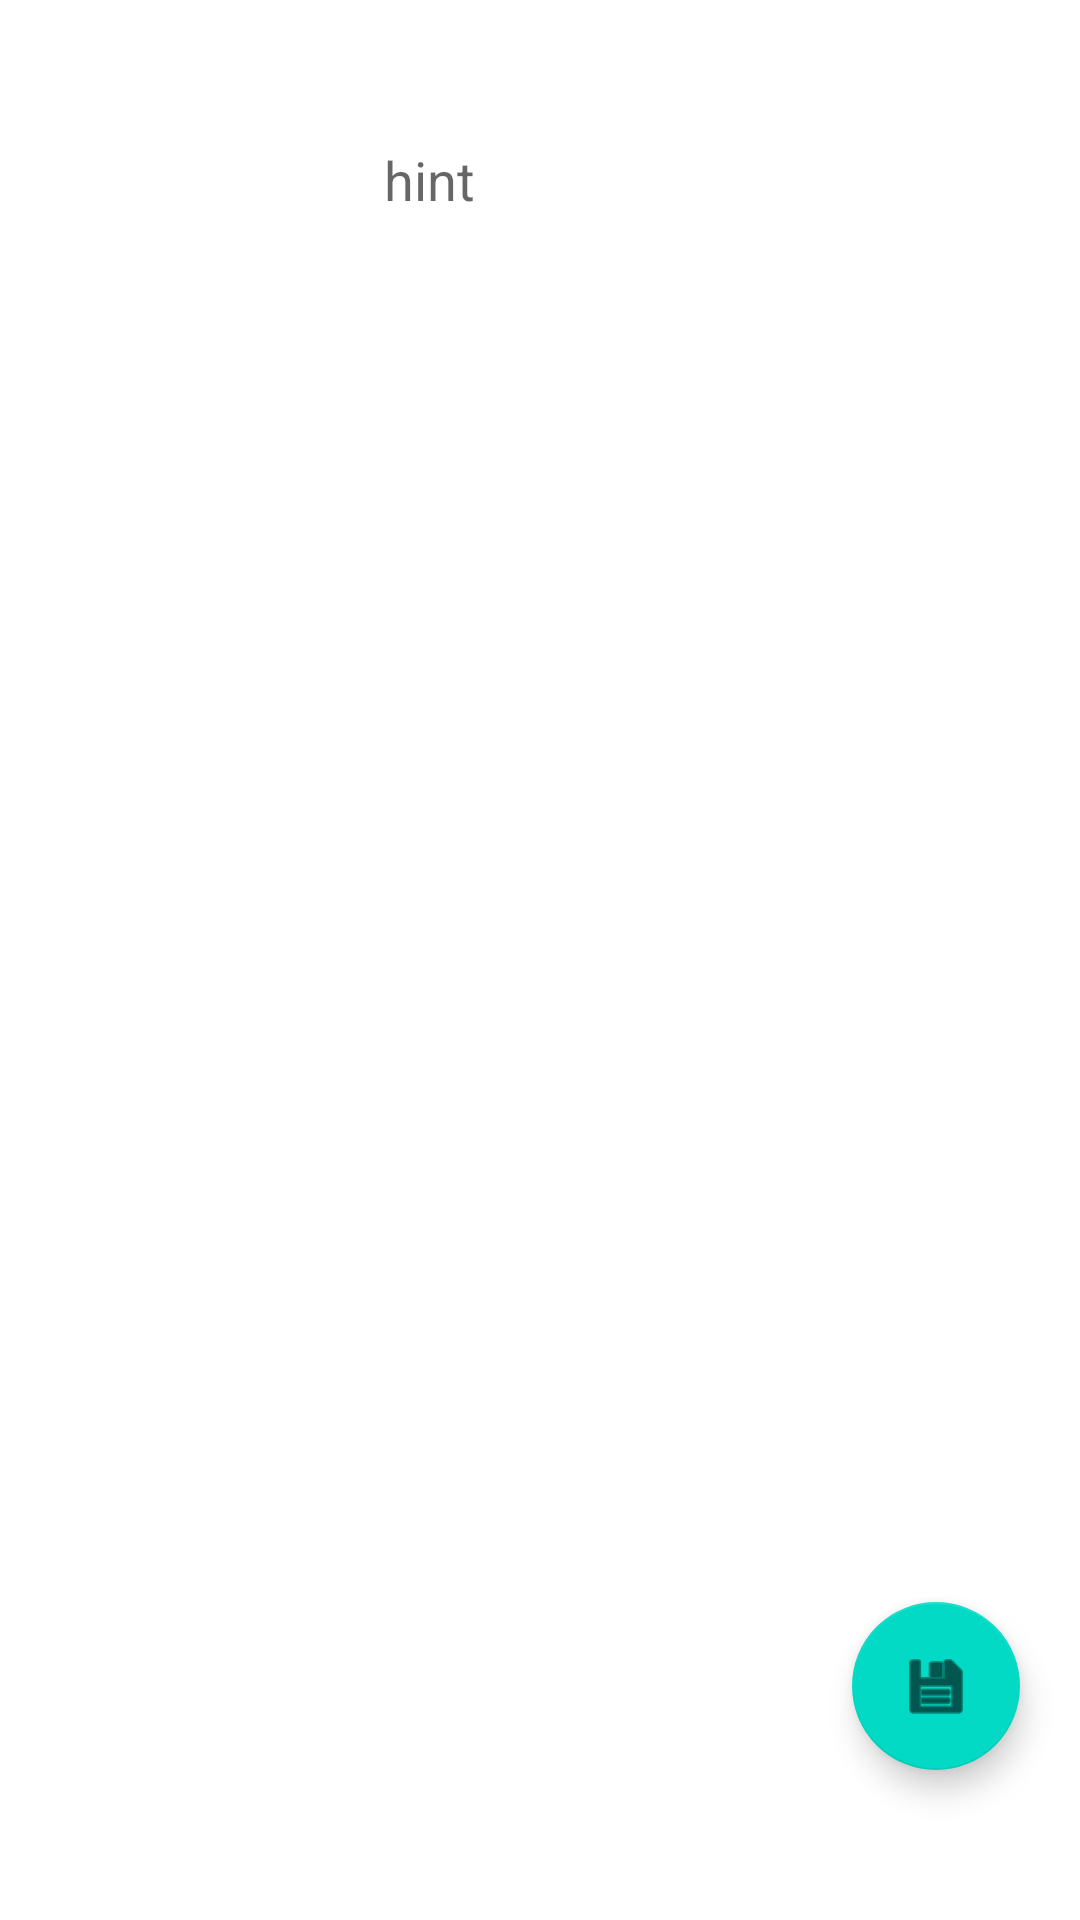

Icons on this 1080×1920 Android screen, each with its box as [left=x1, top=y1, right=x2, bottom=y2]:
save: [left=852, top=1602, right=1020, bottom=1770]
